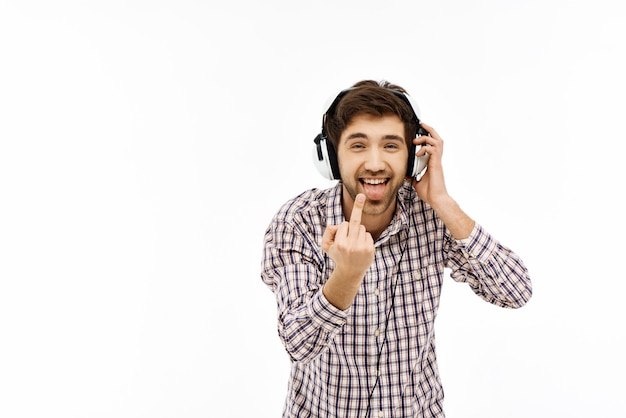insulting_gesture: (318, 192, 377, 284)
